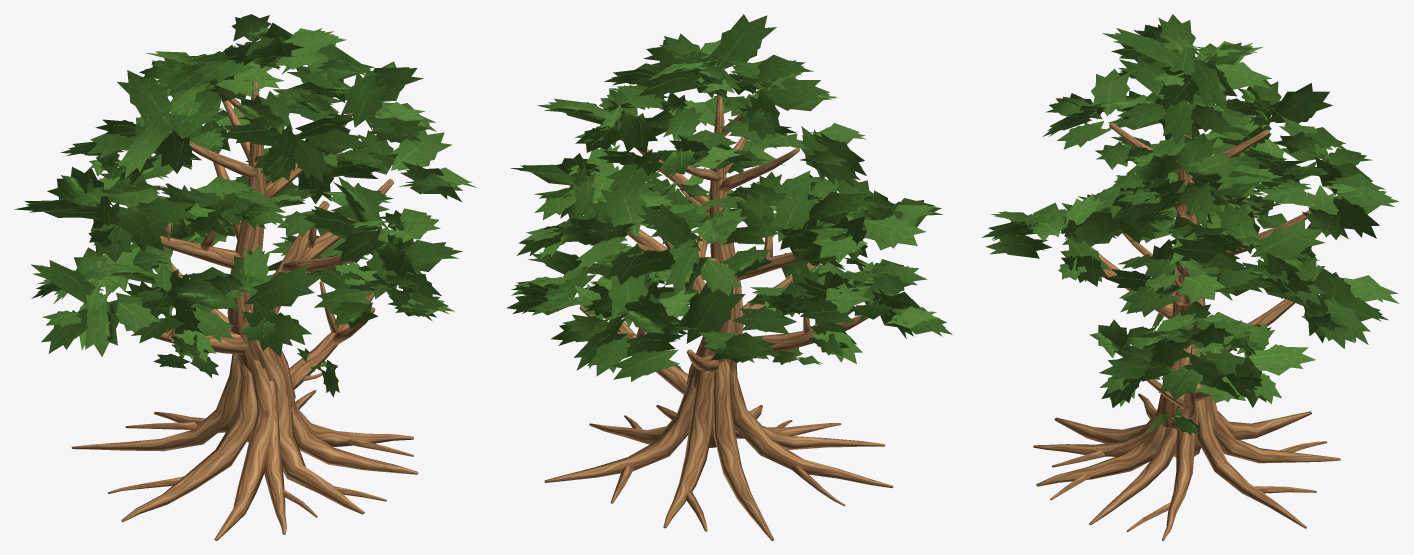
The model's file is WT_MatureTree_LOD1.fbx.
3 renders of one model, left to right at view 1: azimuth 30°, elevation 25°; view 2: azimuth 150°, elevation 25°; view 3: azimuth 270°, elevation 25°, orthographic. The views are drawn at different scales.
Visible parts, largest first — view 1: WT_MatureTree_Foliage_LOD1, WT_MatureTree_Trunk_Branches_LOD1, WT_MatureTree_Roots_LOD1; view 2: WT_MatureTree_Foliage_LOD1, WT_MatureTree_Trunk_Branches_LOD1, WT_MatureTree_Roots_LOD1; view 3: WT_MatureTree_Foliage_LOD1, WT_MatureTree_Trunk_Branches_LOD1, WT_MatureTree_Roots_LOD1.
Boxes of the visible parts, x1=… form: WT_MatureTree_Foliage_LOD1: x1=14, y1=14, x2=477, y2=397; WT_MatureTree_Trunk_Branches_LOD1: x1=153, y1=81, x2=393, y2=472; WT_MatureTree_Roots_LOD1: x1=71, y1=390, x2=418, y2=540; WT_MatureTree_Foliage_LOD1: x1=506, y1=14, x2=952, y2=381; WT_MatureTree_Trunk_Branches_LOD1: x1=579, y1=94, x2=868, y2=475; WT_MatureTree_Roots_LOD1: x1=544, y1=405, x2=893, y2=540; WT_MatureTree_Foliage_LOD1: x1=981, y1=14, x2=1399, y2=435; WT_MatureTree_Trunk_Branches_LOD1: x1=1090, y1=101, x2=1310, y2=478; WT_MatureTree_Roots_LOD1: x1=1033, y1=393, x2=1340, y2=540.
Size of the model in its own units: 9.51 by 9.41 by 8.2.
3 materials, 3 textured.
